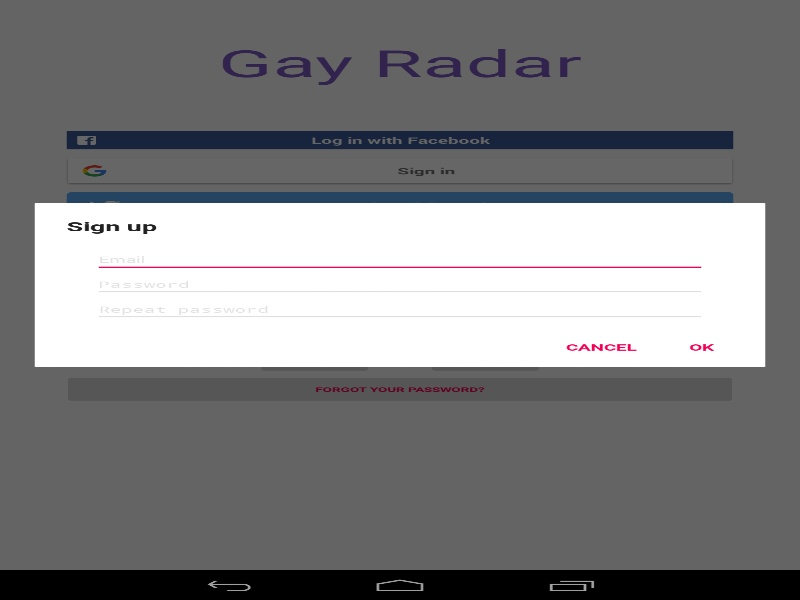Input: (93, 247, 706, 272), (93, 272, 706, 297), (93, 297, 706, 322)
